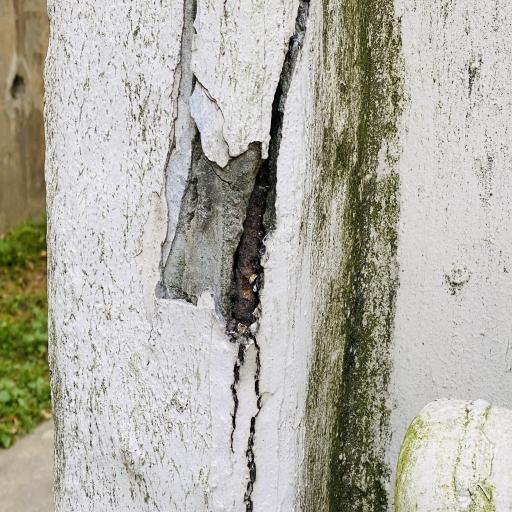exposed_rebar: (231, 158, 270, 325)
spalling: (160, 0, 308, 338)
